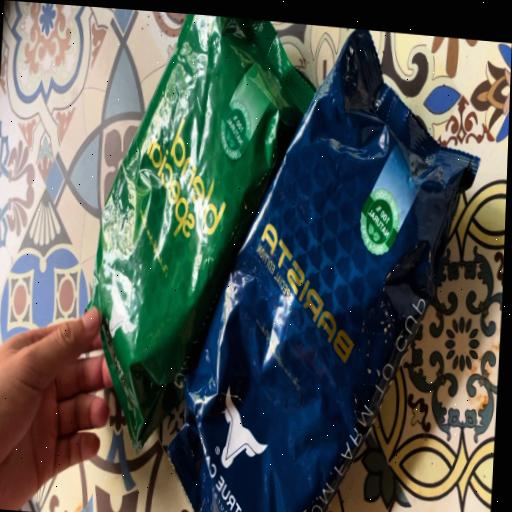cafe_hat: (168, 28, 478, 512)
cafe_xay: (90, 14, 315, 447)
